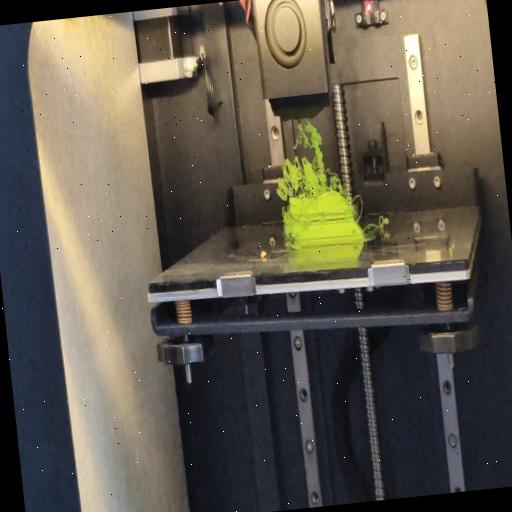spaghetti: (268, 116, 342, 204), (360, 213, 390, 231), (352, 192, 366, 223), (284, 238, 294, 250)
